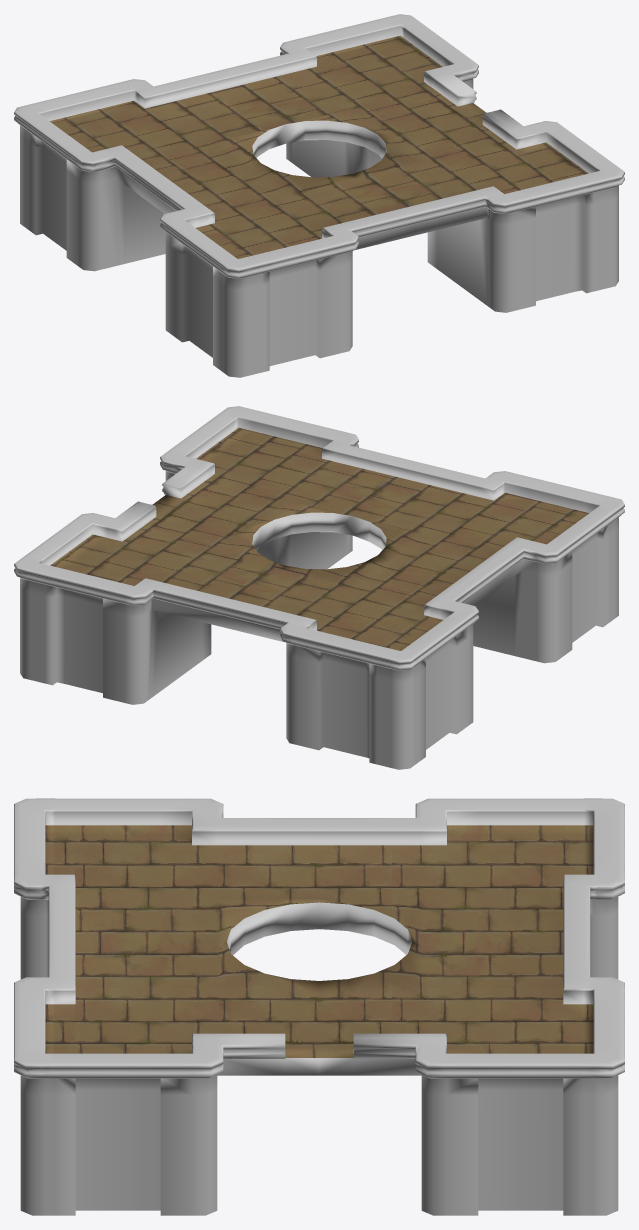
File: PalaceBaseB.fbx
3 views of the same model, one above another, from view 1: azimuth 30°, elevation 25°; view 2: azimuth 150°, elevation 25°; view 3: azimuth 270°, elevation 25° (orthographic). The views are drawn at different scales.
Visible parts, largest first — view 1: polySurface347; view 2: polySurface347; view 3: polySurface347.
Boxes of the visible parts, <box> form: polySurface347: <box>14,14,624,377</box>; polySurface347: <box>14,406,624,769</box>; polySurface347: <box>14,798,624,1215</box>.
Size of the model in its own units: 606 by 162 by 586.
